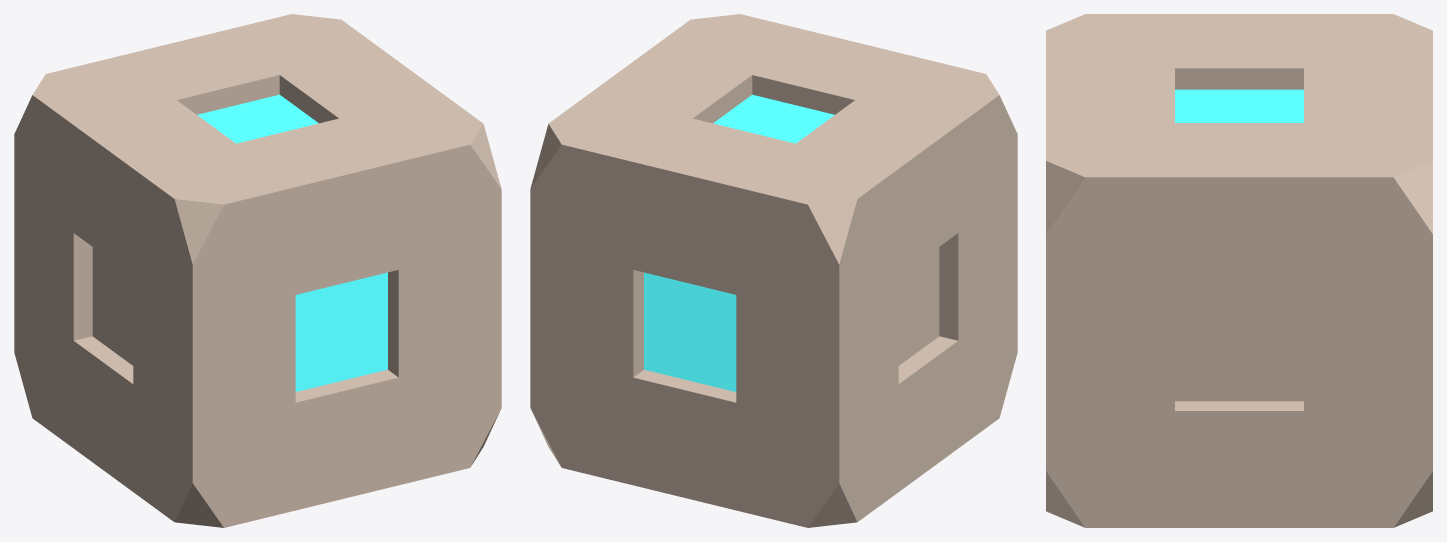
File: silver_sphinx.gltf
3 renders of one model, left to right at view 1: azimuth 30°, elevation 25°; view 2: azimuth 150°, elevation 25°; view 3: azimuth 270°, elevation 25°, orthographic. The views are drawn at different scales.
Parts seen in each view (by area): view 1: Plane.016; view 2: Plane.016; view 3: Plane.016.
Part boxes in pixels (x1=…): Plane.016: x1=14, y1=14, x2=501, y2=527; Plane.016: x1=530, y1=14, x2=1017, y2=527; Plane.016: x1=1046, y1=14, x2=1432, y2=527.
Size of the model in its own units: 1.5 by 1.5 by 1.5.
